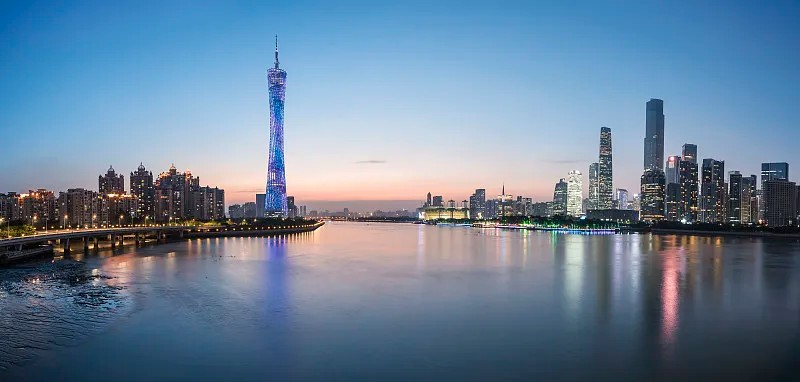Canton: (263, 34, 290, 220)
